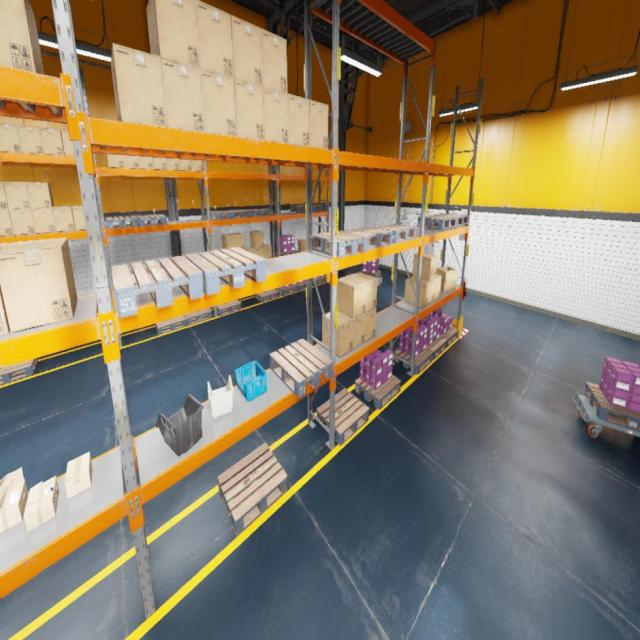box: (0, 238, 78, 332), (111, 43, 167, 127), (147, 0, 200, 68), (161, 58, 205, 132), (0, 0, 44, 74), (196, 0, 234, 78), (201, 70, 237, 136), (231, 15, 263, 86), (24, 476, 58, 532), (234, 79, 265, 140), (0, 466, 28, 533), (261, 29, 287, 93), (322, 310, 353, 357), (264, 87, 288, 144), (65, 451, 92, 499), (336, 276, 366, 318), (288, 94, 310, 146), (349, 272, 377, 312), (0, 242, 10, 336), (310, 100, 329, 149), (404, 276, 429, 308), (17, 125, 44, 153), (3, 182, 30, 209), (26, 182, 54, 208), (9, 209, 35, 236), (413, 253, 437, 281), (40, 127, 64, 155), (0, 122, 22, 152), (31, 208, 56, 234), (52, 206, 76, 232), (414, 277, 435, 304), (437, 266, 458, 292), (353, 313, 366, 349), (60, 129, 75, 156), (72, 205, 87, 230), (365, 308, 376, 342), (0, 210, 14, 236), (250, 231, 264, 248), (106, 155, 124, 168), (122, 155, 139, 168), (0, 182, 8, 209), (222, 234, 236, 249), (434, 274, 442, 300), (152, 157, 167, 170), (138, 156, 153, 169), (232, 233, 244, 249), (178, 159, 191, 171), (166, 158, 179, 170), (251, 247, 264, 258), (191, 159, 202, 172), (264, 244, 272, 260), (298, 239, 306, 252), (244, 246, 256, 254)
pallets: (218, 442, 287, 536), (112, 256, 204, 318), (185, 247, 266, 295), (270, 338, 333, 398), (317, 389, 369, 445), (584, 382, 640, 432), (355, 374, 401, 410), (312, 232, 368, 258), (339, 228, 394, 250), (394, 348, 434, 374), (0, 358, 37, 385), (374, 224, 416, 243), (155, 315, 187, 335), (417, 215, 457, 230), (423, 337, 448, 360), (185, 308, 212, 326), (434, 213, 468, 226), (217, 299, 242, 316), (438, 327, 459, 347), (106, 216, 138, 229), (135, 214, 167, 227), (254, 290, 278, 302), (205, 210, 231, 220), (276, 284, 299, 294), (225, 210, 252, 218), (249, 208, 273, 216), (274, 249, 298, 257), (296, 281, 313, 291), (360, 270, 381, 278), (290, 205, 313, 212), (313, 276, 326, 286), (312, 204, 327, 211), (163, 270, 171, 278)
